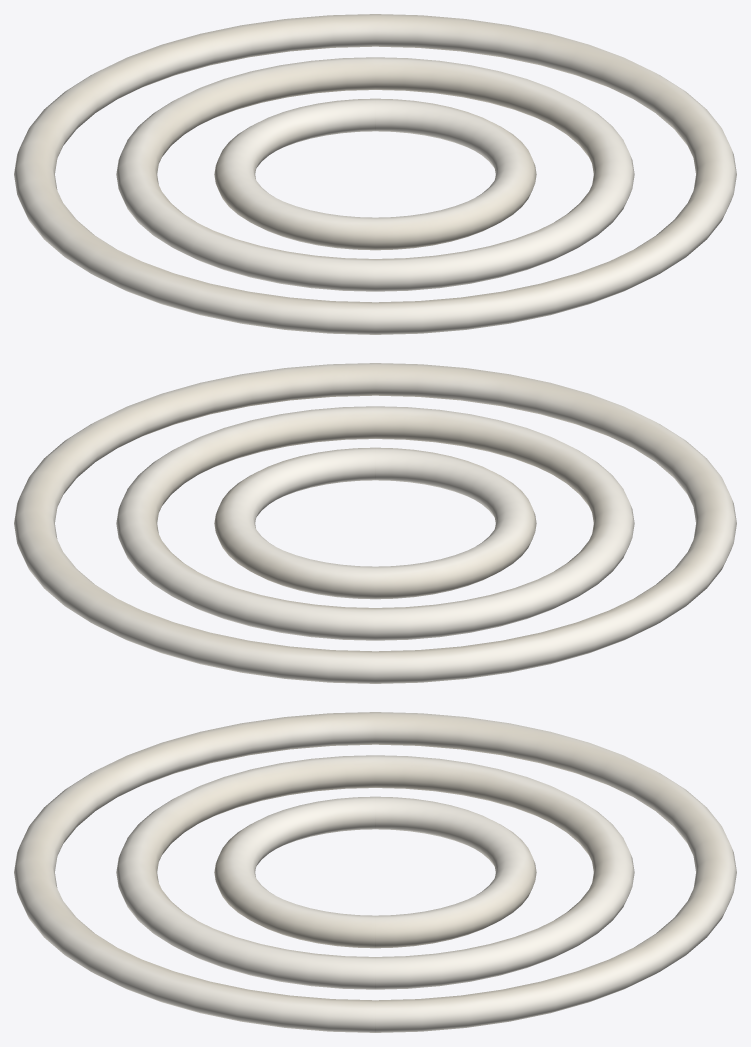
The model's file is onion.glb.
3 views of the same model, one above another, from view 1: azimuth 30°, elevation 25°; view 2: azimuth 150°, elevation 25°; view 3: azimuth 270°, elevation 25° (orthographic).
Parts seen in each view (by area): view 1: onion; view 2: onion; view 3: onion.
Part boxes in pixels (left/top/right/bottom): onion: left=14, top=14, right=736, bottom=334; onion: left=14, top=363, right=736, bottom=683; onion: left=14, top=712, right=736, bottom=1032.
Bounding box in the file's own units: 0.848 × 0.036 × 0.848.
1 material, 1 textured.
